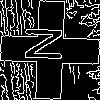N: (25, 25, 72, 63)
